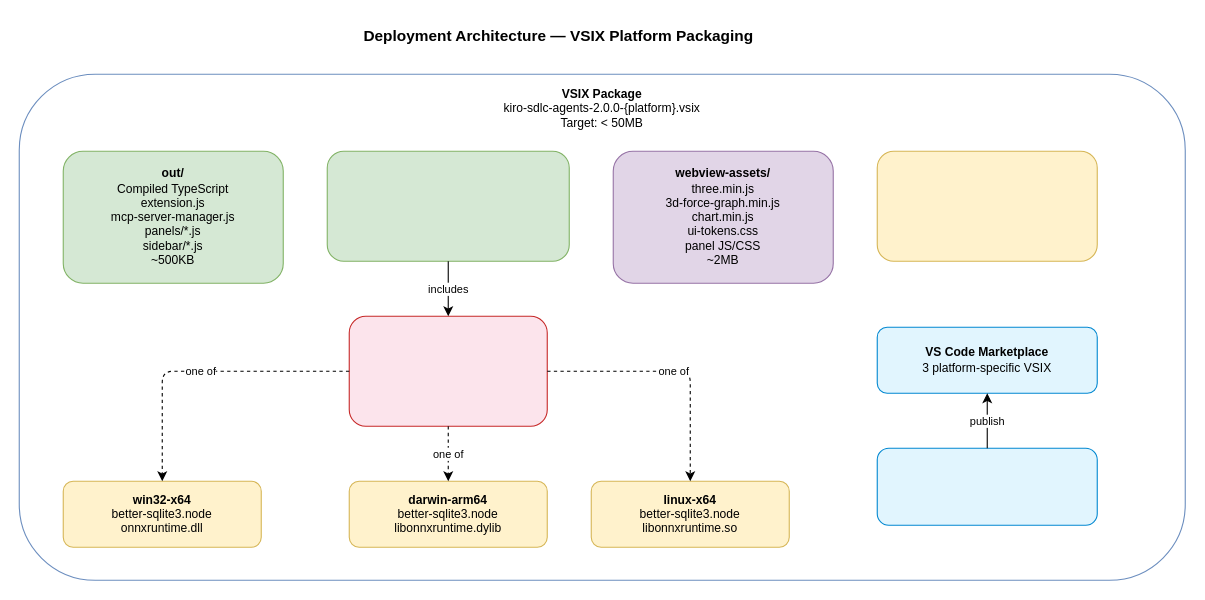
The diagram is 1205 pixels wide and 600 high, and some of its shapes have lost their labels. The box of each missing label's shape, as (x1, y1, x2, y2) in pixels:
GitHub Actions Build matrix: win32-x64, darwin-arm64, linux-x64: (876, 447, 1097, 525)
mcp-server/ Bundled MCP NodeJS Server index.js + node_modules/ ~30MB: (326, 150, 569, 261)
Native Addons (platform-specific) better-sqlite3 onnxruntime-node ~10MB: (348, 315, 547, 426)
resources/ Agents, steering, hooks, templates icons ~5MB: (876, 150, 1097, 261)
